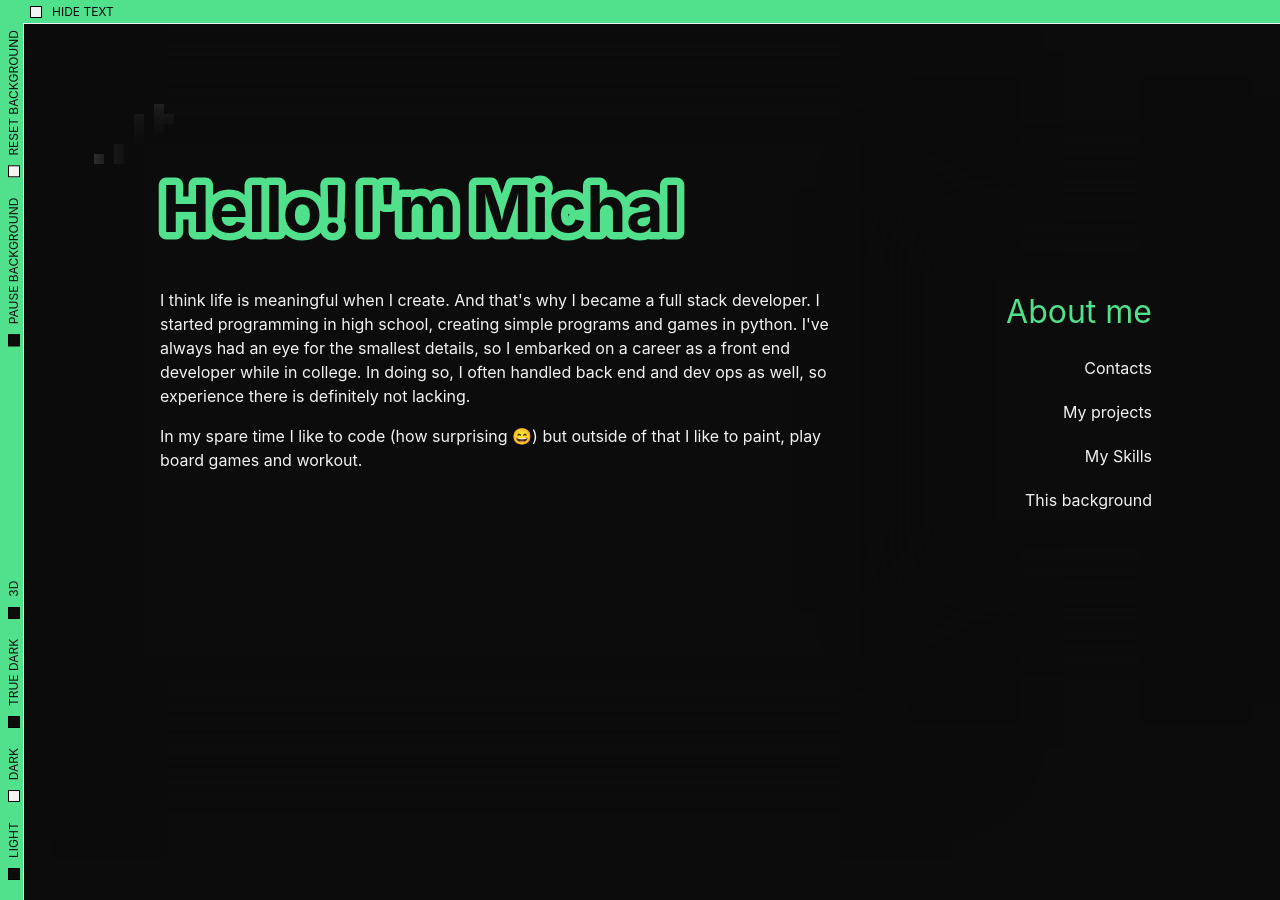
Scenario: MainLayout › toggles text visibility and control mode
Click the checkbox labelled "HIDE TEXT". click: (72, 12)
box: [30,3,114,21]
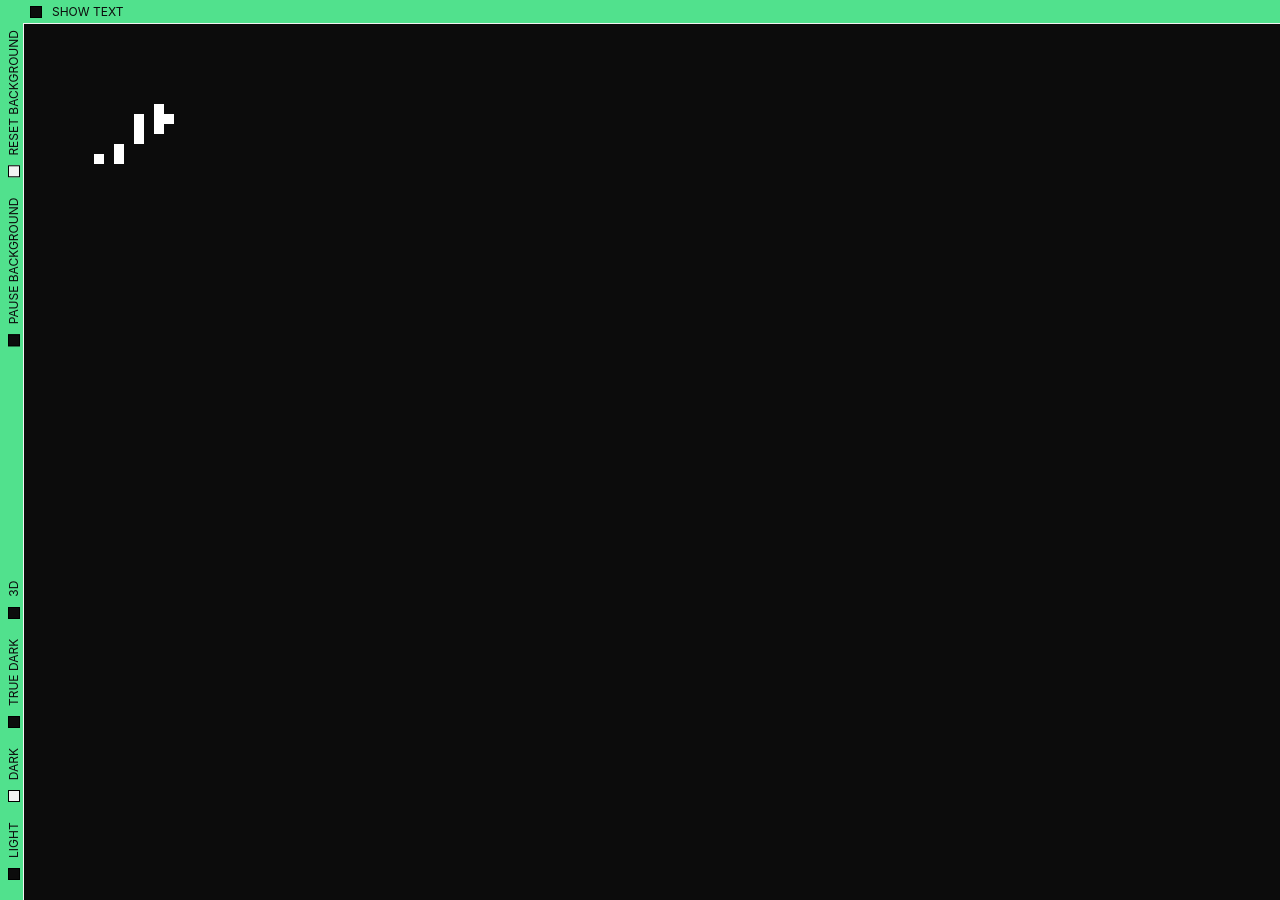
Now the text "About me" is gone
